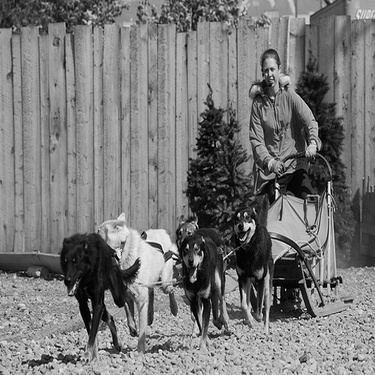dog: (61, 211, 183, 338), (38, 232, 149, 362), (210, 183, 285, 332), (151, 228, 238, 346), (166, 198, 223, 320)
